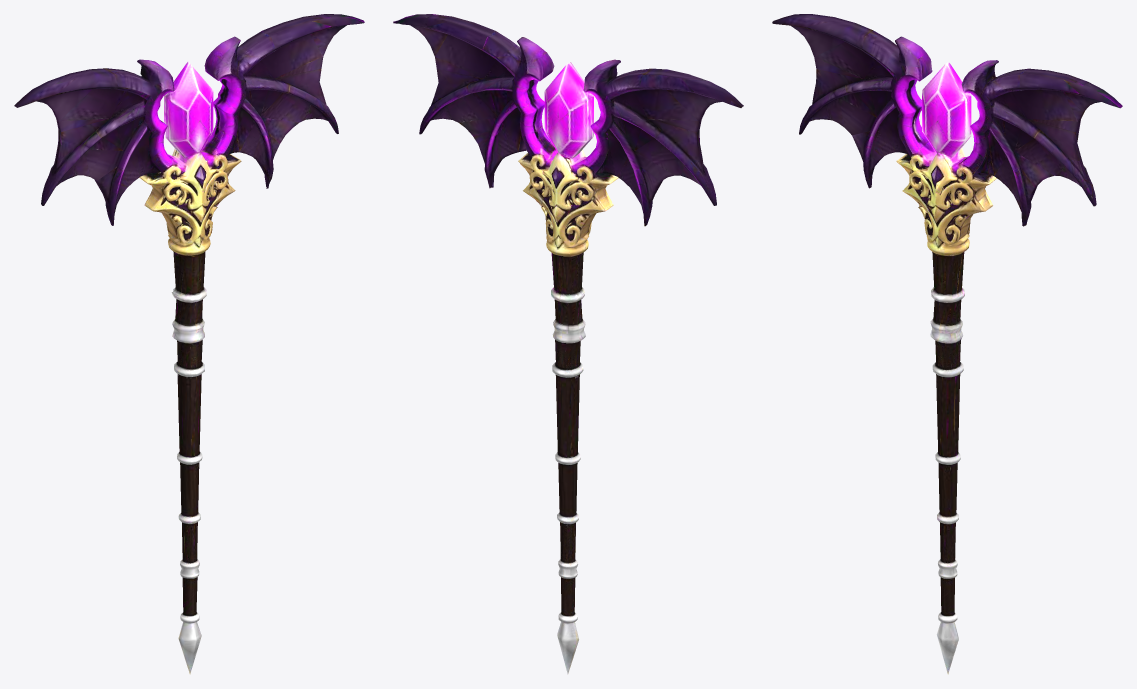
File: staff_bat.glb
3 renders of one model, left to right at view 1: azimuth 30°, elevation 25°; view 2: azimuth 150°, elevation 25°; view 3: azimuth 330°, elevation 25°, orthographic.
Parts seen in each view (by area): view 1: staff_bat; view 2: staff_bat; view 3: staff_bat.
Part boxes in pixels (x1=…): staff_bat: x1=14, y1=14, x2=364, y2=674; staff_bat: x1=393, y1=14, x2=743, y2=674; staff_bat: x1=772, y1=14, x2=1122, y2=674.
Bounding box in the file's own units: 0.5824 × 1 × 0.079.
1 material, 1 textured.
